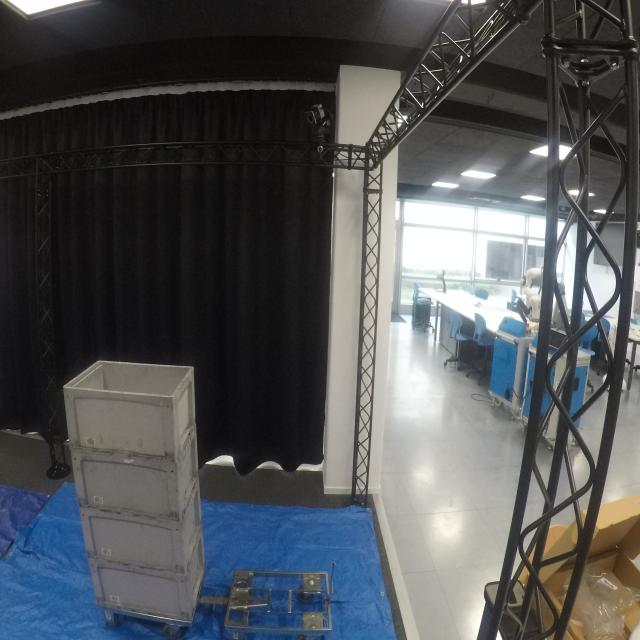Box4G: (63, 356, 200, 462), (68, 423, 206, 520), (85, 526, 209, 627), (78, 480, 206, 576)
